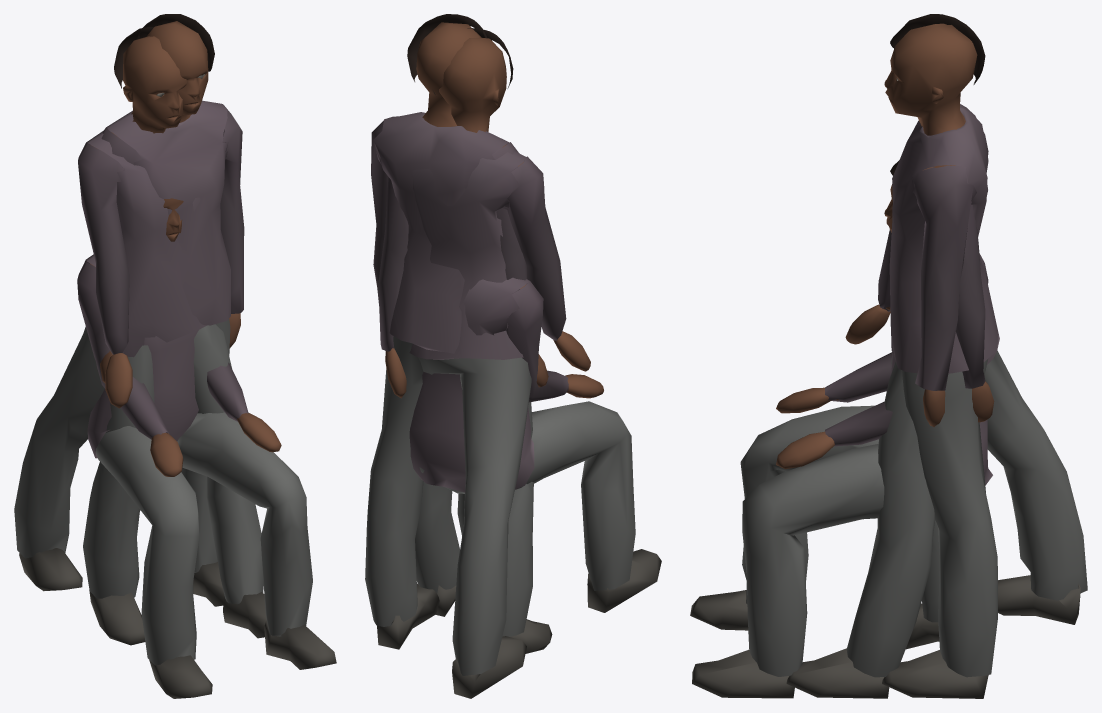
Rendered from crowd-05-far.glb.
3 views of the same model, side by side, from view 1: azimuth 30°, elevation 25°; view 2: azimuth 150°, elevation 25°; view 3: azimuth 270°, elevation 25° (orthographic). The views are drawn at different scales.
Parts seen in each view (by area): view 1: walking, seated, standing; view 2: walking, standing, seated; view 3: standing, walking, seated.
Boxes of the visible parts, left/top/right/bottom form: walking: left=14, top=27, right=266, bottom=638; seated: left=77, top=198, right=336, bottom=698; standing: left=83, top=14, right=244, bottom=645; walking: left=378, top=28, right=590, bottom=698; standing: left=365, top=14, right=552, bottom=653; seated: left=409, top=277, right=661, bottom=612; standing: left=882, top=15, right=999, bottom=698; walking: left=786, top=14, right=1087, bottom=698; seated: left=690, top=159, right=992, bottom=698.
Size of the model in its own units: 0.5 by 1.63 by 0.8959.
